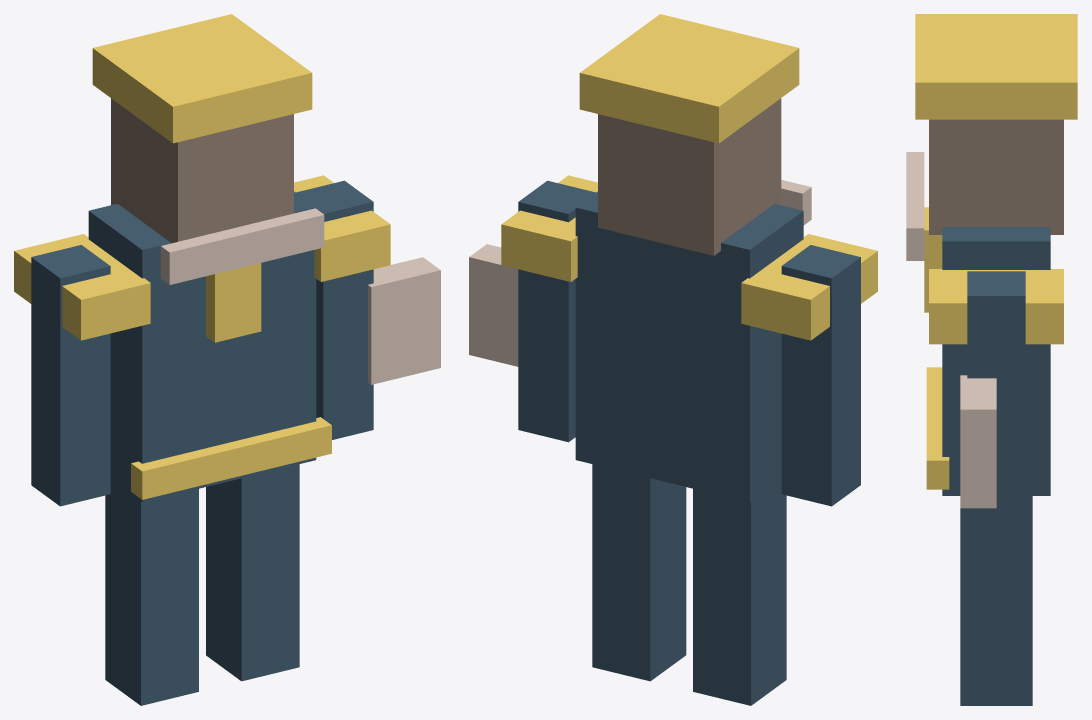
Rendered from 19_maelis_gearmantle_medic_from_street.glb.
3 views of the same model, side by side, from view 1: azimuth 30°, elevation 25°; view 2: azimuth 150°, elevation 25°; view 3: azimuth 270°, elevation 25° (orthographic).
Parts seen in each view (by area): view 1: Maelis Gearmantle, Medic from Street; view 2: Maelis Gearmantle, Medic from Street; view 3: Maelis Gearmantle, Medic from Street.
Part boxes in pixels (box(x1,y1,x2,y2)): Maelis Gearmantle, Medic from Street: box(14, 14, 440, 705); Maelis Gearmantle, Medic from Street: box(469, 14, 877, 705); Maelis Gearmantle, Medic from Street: box(906, 14, 1077, 705).
Bounding box in the file's own units: 1.03 × 1.6 × 0.4026.
